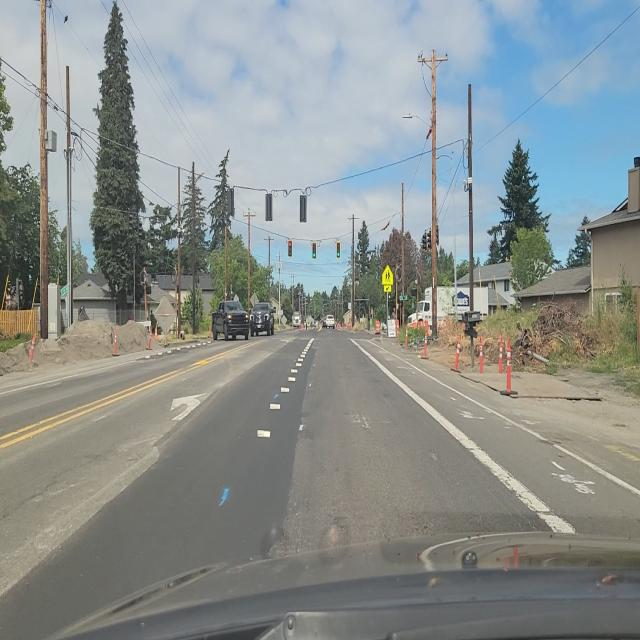car: (213, 300, 250, 341), (249, 302, 275, 337), (323, 314, 335, 330), (292, 313, 302, 329)
crosswalk-sign: (382, 264, 393, 292)
delineator: (505, 337, 513, 395), (453, 333, 462, 372), (497, 334, 504, 374), (478, 335, 484, 374), (422, 324, 428, 359), (29, 334, 36, 363), (112, 329, 118, 356), (146, 326, 152, 351), (404, 323, 408, 347), (163, 331, 168, 347), (208, 322, 212, 340), (154, 324, 158, 341)
